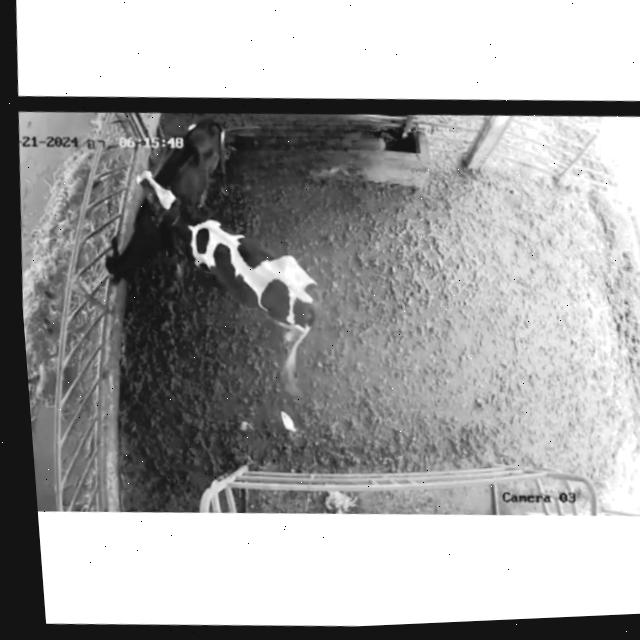propping: (113, 154, 225, 253)
